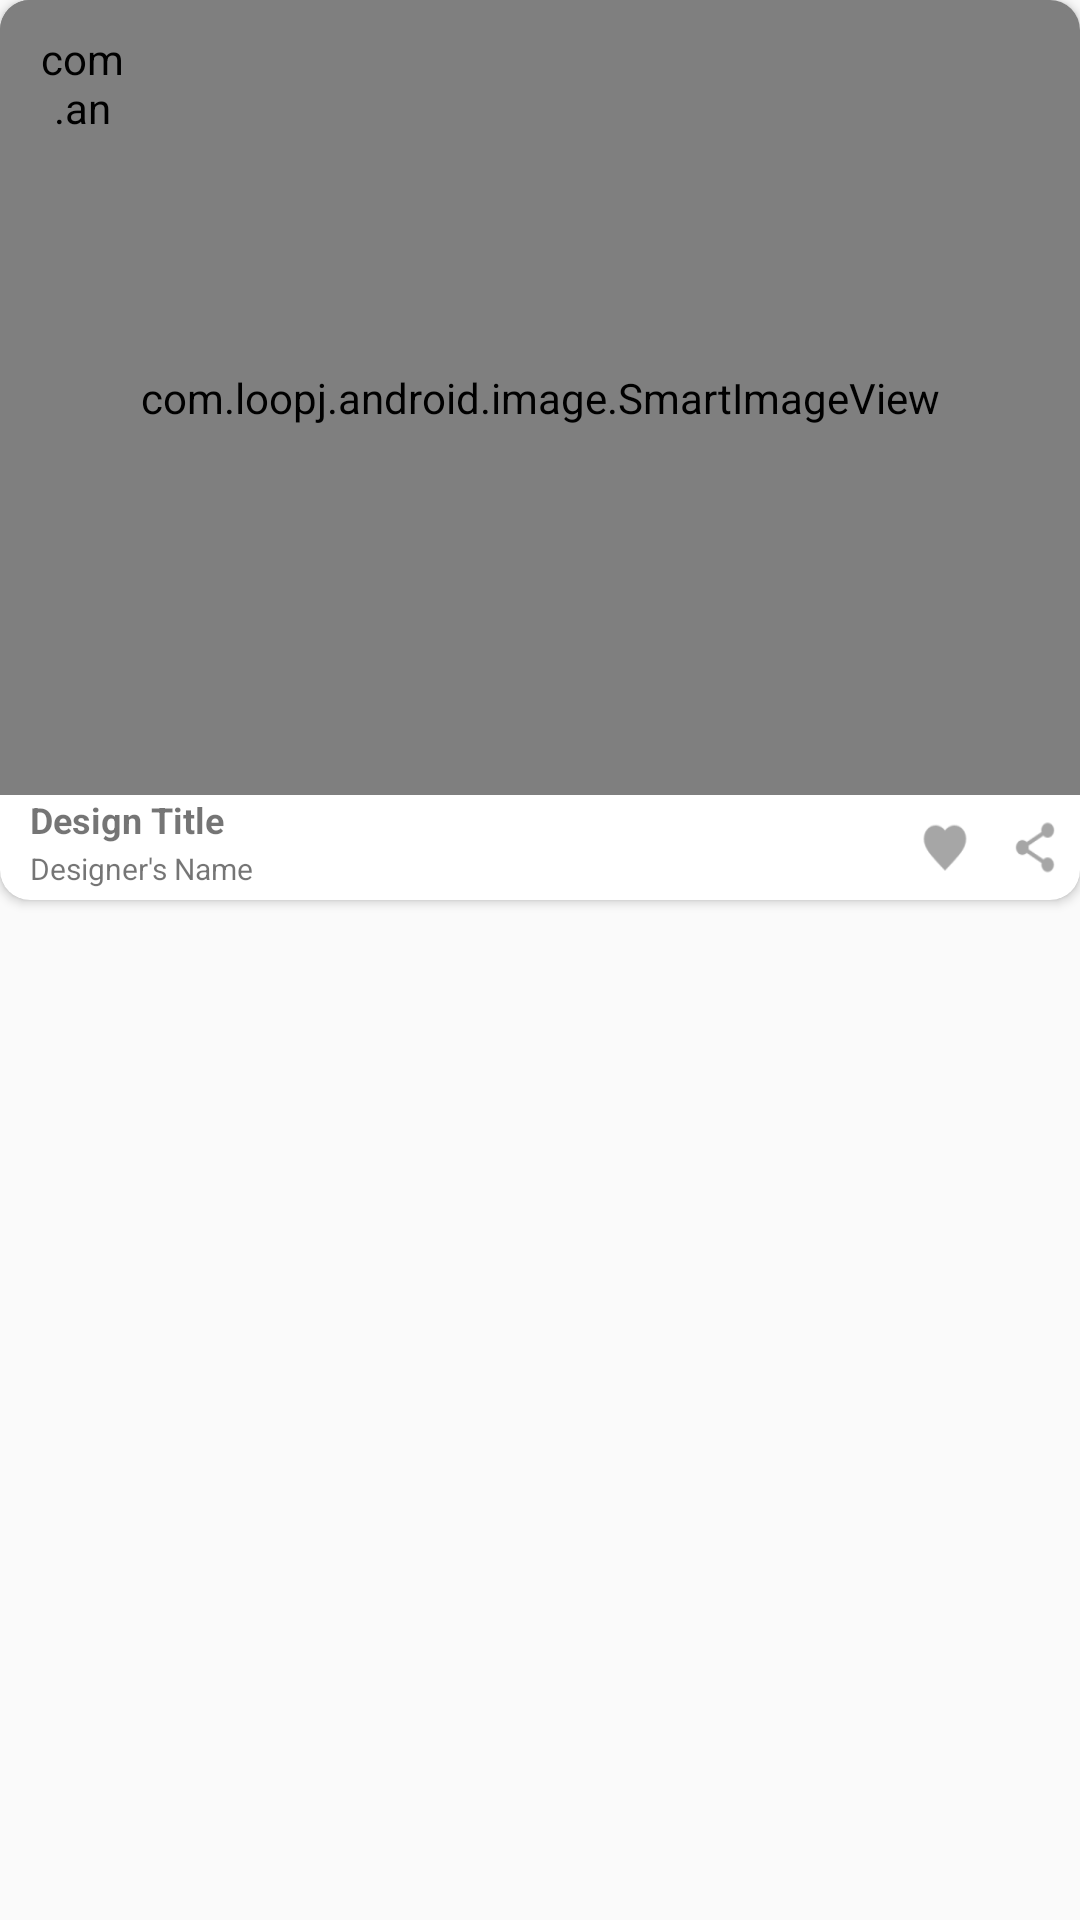

Icon bounding boxes for this 1080w x 1920h phone screenshot, format {"x1": x1, "y1": y1, "x2": x2, "y2": y2}:
favorite: {"x1": 924, "y1": 825, "x2": 966, "y2": 870}
share: {"x1": 1016, "y1": 822, "x2": 1054, "y2": 872}
